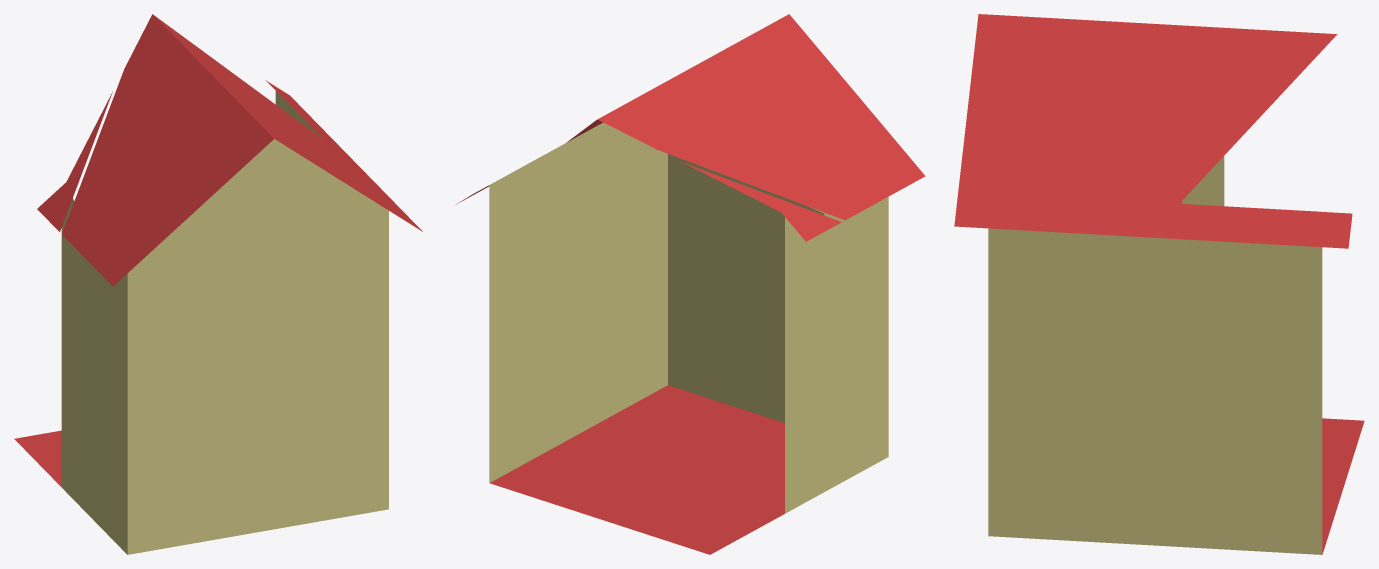
3 renders of one model, left to right at view 1: azimuth 30°, elevation 25°; view 2: azimuth 150°, elevation 25°; view 3: azimuth 270°, elevation 25°, orthographic. The views are drawn at different scales.
Size of the model in its own units: 10.63 by 10.14 by 12.44.
